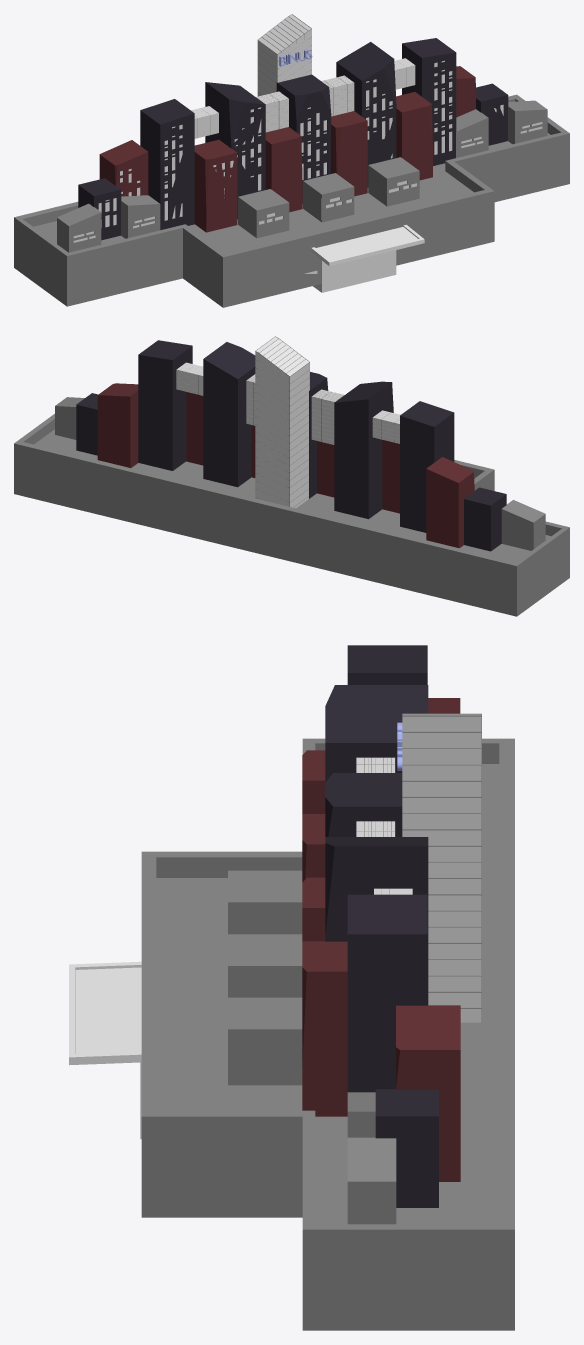
Rendered from binus1.fbx.
3 views of the same model, one above another, from view 1: azimuth 30°, elevation 25°; view 2: azimuth 150°, elevation 25°; view 3: azimuth 270°, elevation 25° (orthographic). The views are drawn at different scales.
Visible parts, largest first — view 1: Cube, Cube.003, Cube.002, Cube.001, Cube.031, Cube.038, Cube.017, Plane.001, Cube.032, Cube.018, Cube.010, Cube.033 (+11 smaller); view 2: Cube, Cube.003, Cube.038, Cube.002, Cube.032, Cube.016, Cube.033, Cube.031, Cube.010, Cube.015, Cube.004, Cube.017 (+3 smaller); view 3: Cube, Cube.003, Cube.038, Cube.001, Cube.002, Cube.016, Plane.001, Cube.015, Cube.017, Cube.004, Cube.010.
Boxes of the visible parts, x1=… form: Cube: x1=14, y1=94, x2=569, y2=307; Cube.003: x1=140, y1=38, x2=456, y2=230; Cube.002: x1=194, y1=92, x2=432, y2=232; Cube.001: x1=238, y1=157, x2=419, y2=238; Cube.031: x1=57, y1=195, x2=160, y2=252; Cube.038: x1=257, y1=15, x2=311, y2=96; Cube.017: x1=456, y1=100, x2=547, y2=157; Plane.001: x1=311, y1=224, x2=424, y2=266; Cube.032: x1=99, y1=140, x2=148, y2=196; Cube.018: x1=313, y1=250, x2=396, y2=292; Cube.010: x1=256, y1=75, x2=354, y2=132; Cube.033: x1=78, y1=178, x2=121, y2=240; Cube: x1=14, y1=414, x2=569, y2=616; Cube.003: x1=138, y1=340, x2=454, y2=532; Cube.038: x1=255, y1=337, x2=309, y2=508; Cube.002: x1=186, y1=392, x2=399, y2=513; Cube.032: x1=426, y1=457, x2=474, y2=548; Cube.016: x1=97, y1=383, x2=138, y2=467; Cube.033: x1=464, y1=487, x2=506, y2=551; Cube.031: x1=501, y1=500, x2=545, y2=550; Cube.010: x1=246, y1=374, x2=343, y2=444; Cube.015: x1=76, y1=393, x2=97, y2=455; Cube.004: x1=255, y1=336, x2=309, y2=507; Cube.017: x1=55, y1=397, x2=84, y2=439; Cube: x1=141, y1=738, x2=514, y2=1330; Cube.003: x1=325, y1=645, x2=428, y2=1092; Cube.038: x1=402, y1=714, x2=481, y2=1022; Cube.001: x1=228, y1=870, x2=302, y2=1085; Cube.002: x1=302, y1=750, x2=347, y2=1116; Cube.016: x1=396, y1=1005, x2=460, y2=1181; Plane.001: x1=69, y1=961, x2=141, y2=1065; Cube.015: x1=375, y1=1089, x2=438, y2=1207; Cube.017: x1=347, y1=1092, x2=396, y2=1224; Cube.004: x1=402, y1=713, x2=481, y2=1022; Cube.010: x1=356, y1=757, x2=394, y2=836.
Bounding box in the file's own units: 4776 × 1841 × 1835.
